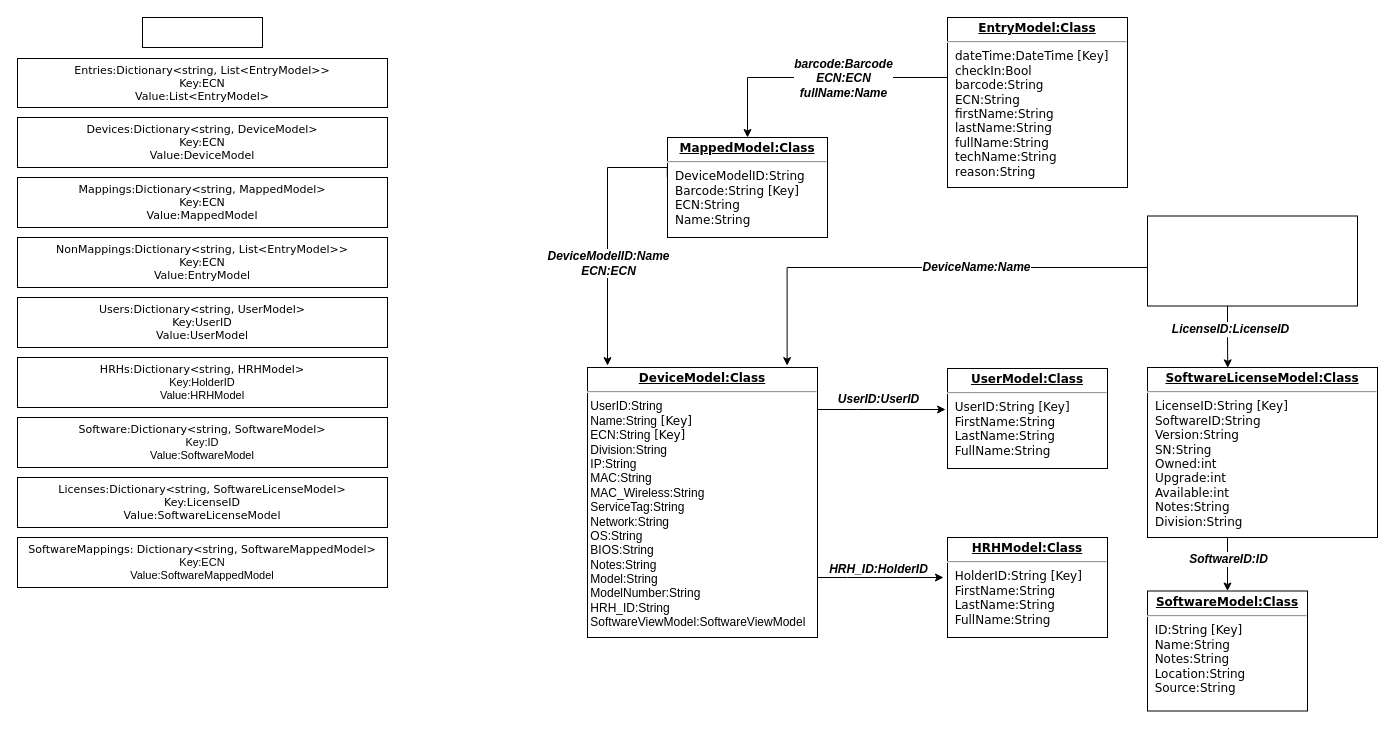
Image size: 1395x729. Some labels were removed from this diagram. Each missing label, with the centre of its shape:
"Json DB" goes at pixel 202 32.
"SoftwareMappedModel:Class UseID:String [Key] DeviceName:String LicenseID:String" goes at pixel 1252 260.
